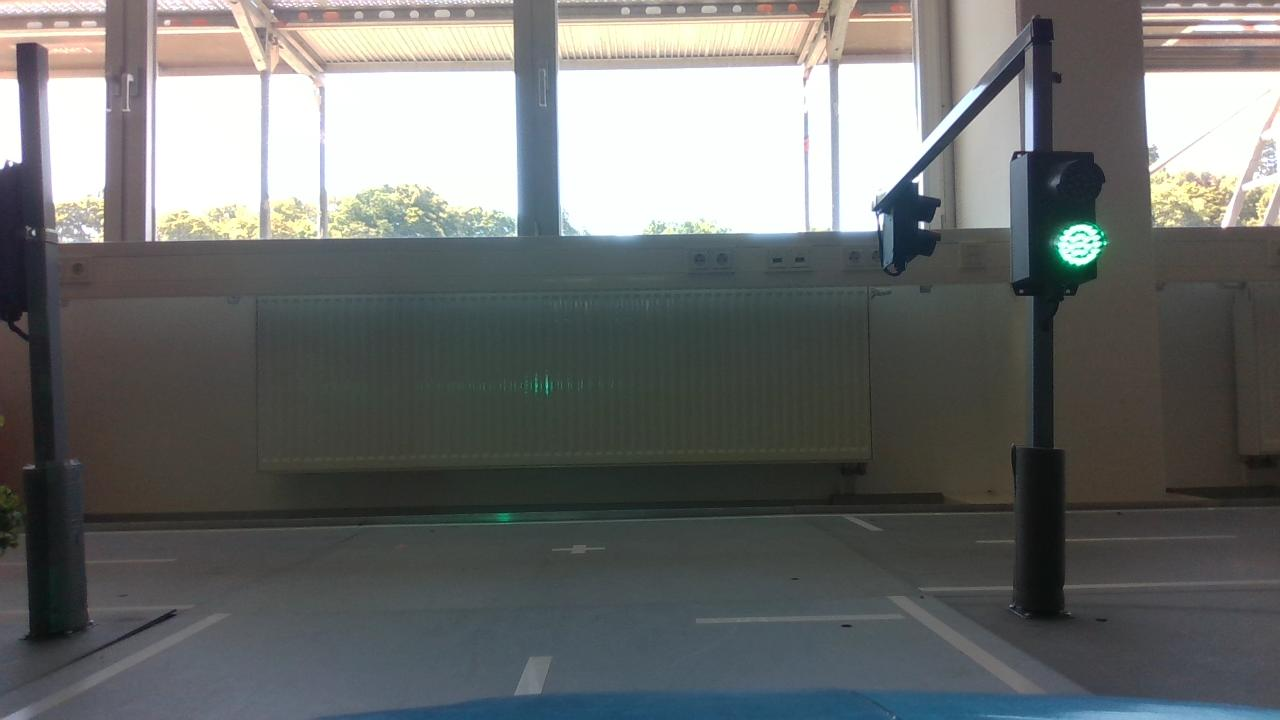traffic_light_green: (997, 142, 1120, 302)
